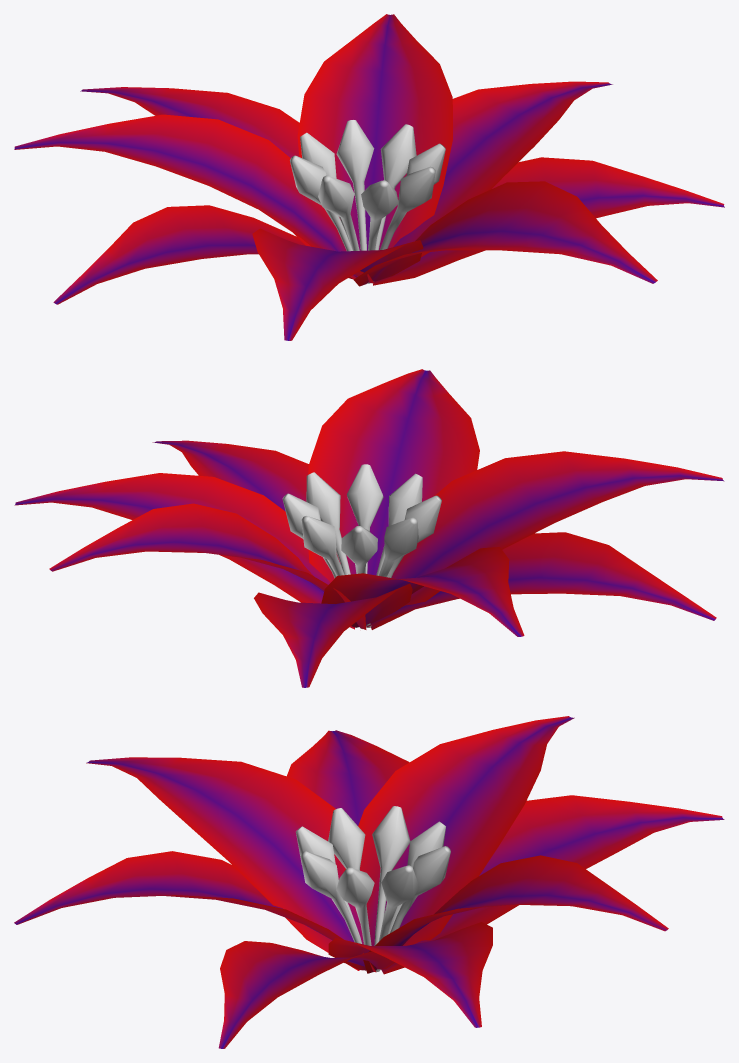
File: SM_GiantPlant.fbx
3 views of the same model, one above another, from view 1: azimuth 30°, elevation 25°; view 2: azimuth 150°, elevation 25°; view 3: azimuth 270°, elevation 25° (orthographic).
Parts seen in each view (by area): view 1: polySurface16, polySurface15, polySurface13, goal_flower_bud_geo, polySurface12, polySurface10, polySurface8, polySurface14, polySurface11; view 2: polySurface14, polySurface13, goal_flower_bud_geo, polySurface12, polySurface10, polySurface16, polySurface15, polySurface11, polySurface8; view 3: polySurface15, polySurface14, goal_flower_bud_geo, polySurface11, polySurface13, polySurface16, polySurface8, polySurface12, polySurface10.
Boxes of the visible parts, x1,y1,x2,y2 form: polySurface16: (297,14,452,250); polySurface15: (14,114,356,278); polySurface13: (354,181,657,286); goal_flower_bud_geo: (290,120,445,283); polySurface12: (393,81,612,257); polySurface10: (53,205,374,304); polySurface8: (373,157,724,285); polySurface14: (252,228,423,340); polySurface11: (80,87,353,278); polySurface14: (371,451,724,629); polySurface13: (308,369,479,582); goal_flower_bud_geo: (282,464,441,628); polySurface12: (14,473,354,629); polySurface10: (364,532,716,628); polySurface16: (49,503,366,629); polySurface15: (321,547,524,636); polySurface11: (254,583,412,687); polySurface8: (152,440,308,511); polySurface15: (344,716,574,945); polySurface14: (86,757,363,970); goal_flower_bud_geo: (296,806,450,971); polySurface11: (381,795,724,974); polySurface13: (14,851,376,972); polySurface16: (363,855,668,973); polySurface8: (218,941,394,1048); polySurface12: (328,922,492,1027); polySurface10: (287,730,409,825).
Bounding box in the file's own units: 514 × 106 × 495.
